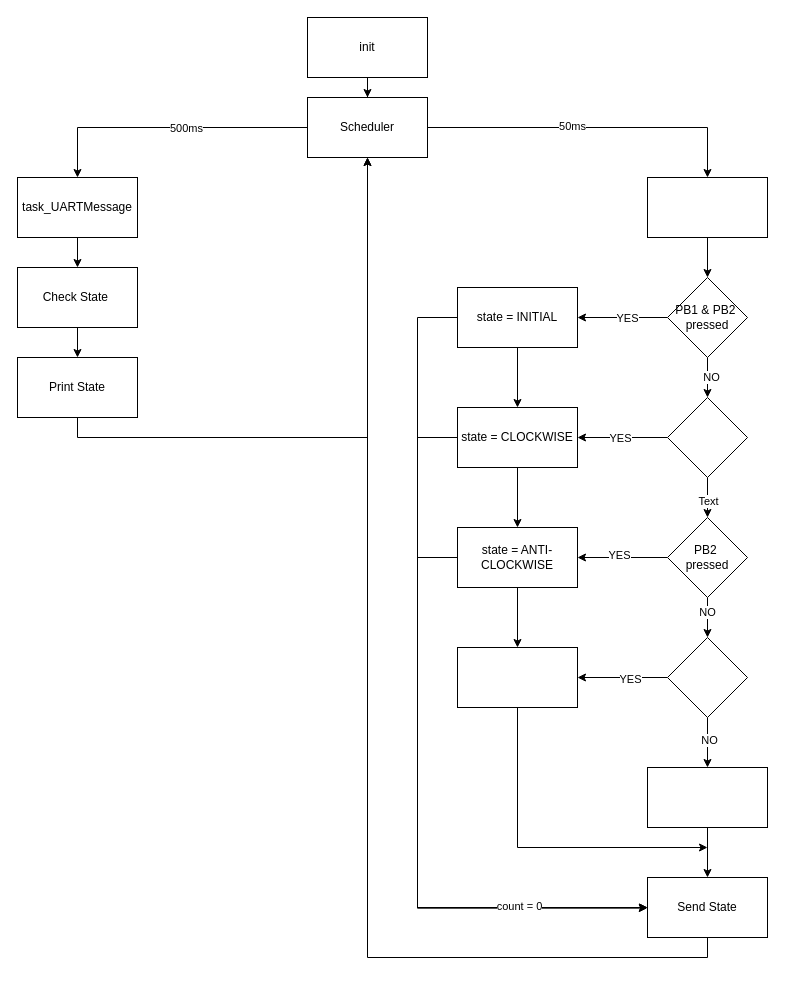
The diagram is 785 pixels wide and 983 high, and some of its shapes have lost their labels. Here are the shapes that lost their labels. From the top down, the centre of each, then its label:
the point at 707,207: task_readSwitches
the point at 707,437: PB1 pressed
the point at 517,677: state = IDLE
the point at 707,677: time expired
the point at 707,797: count++
